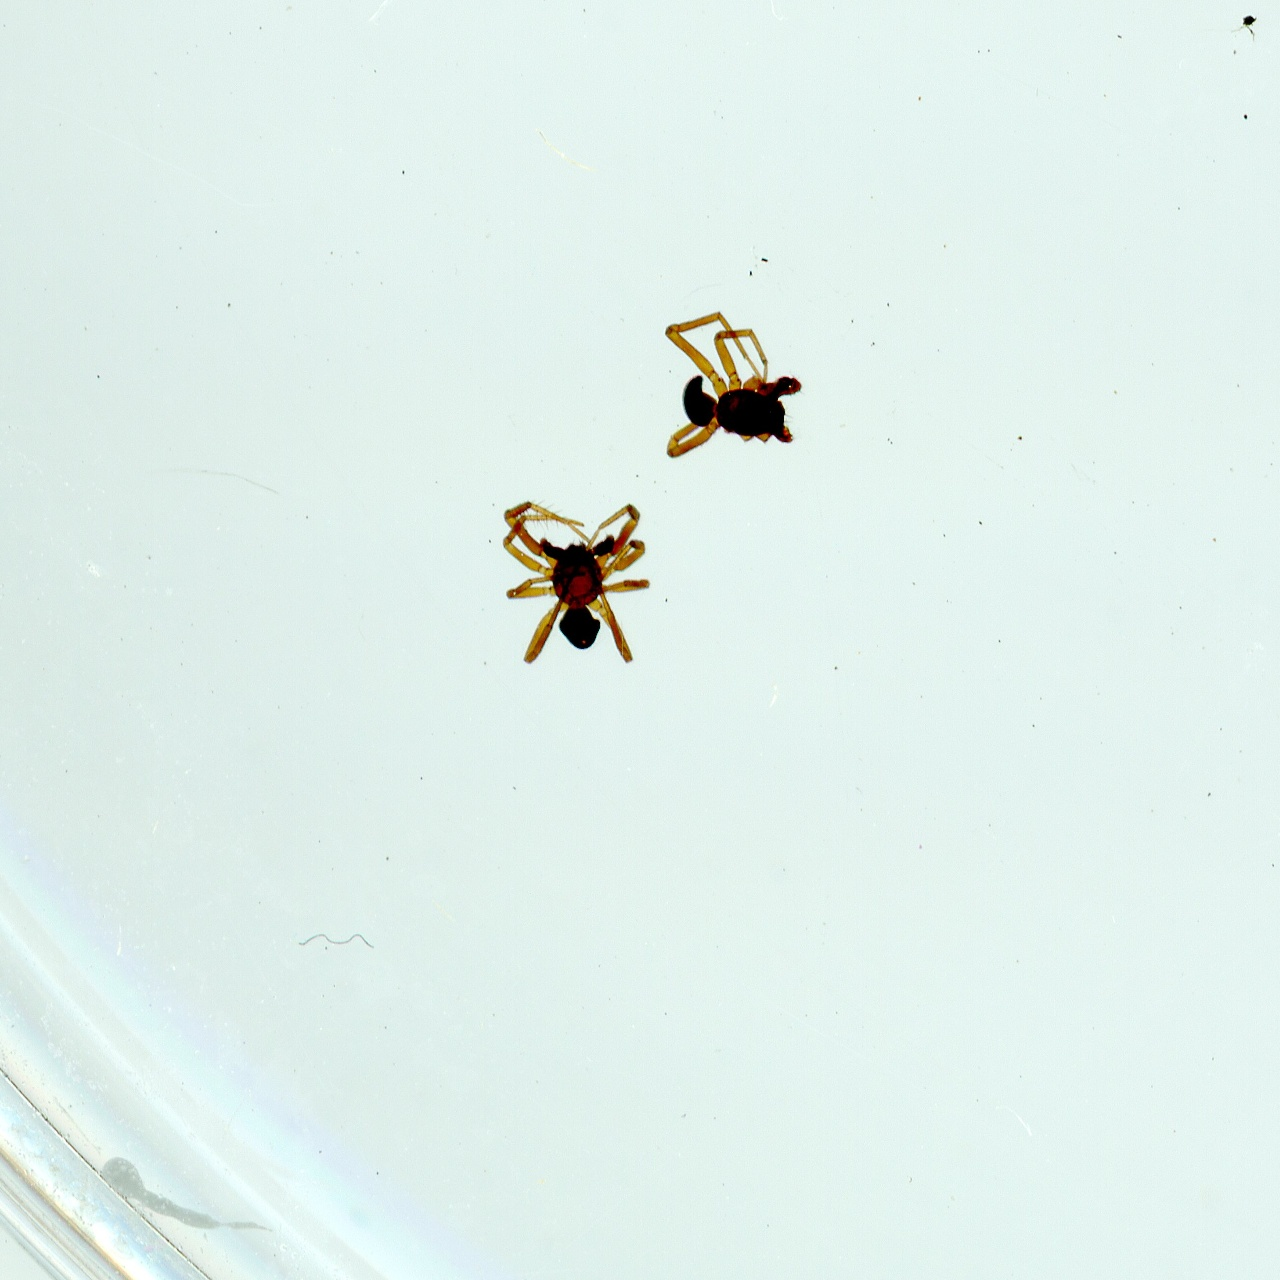arthropod: (491, 492, 665, 679), (652, 304, 812, 463)
